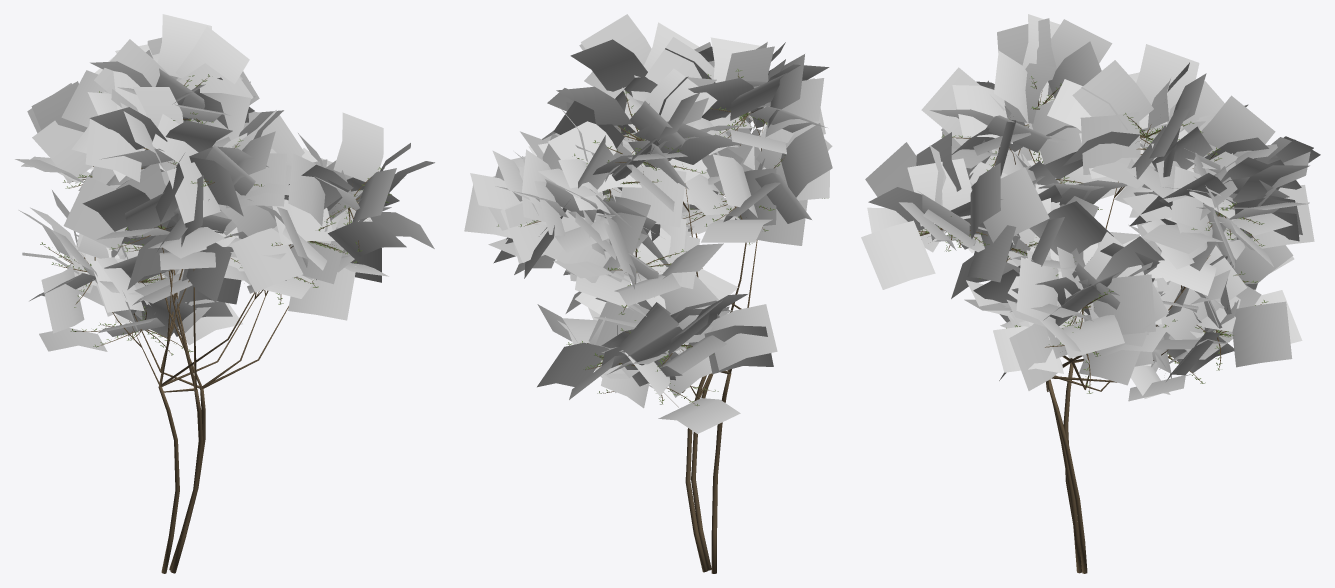
File: Bruyere_Ancien_LOD0.fbx
3 renders of one model, left to right at view 1: azimuth 30°, elevation 25°; view 2: azimuth 150°, elevation 25°; view 3: azimuth 270°, elevation 25°, orthographic. The views are drawn at different scales.
Visible parts, largest first — view 1: Bruyere_Ancien; view 2: Bruyere_Ancien; view 3: Bruyere_Ancien.
Boxes of the visible parts, box(x1,y1,x2,y2) form: Bruyere_Ancien: box(15, 14, 434, 573); Bruyere_Ancien: box(464, 14, 832, 573); Bruyere_Ancien: box(861, 14, 1320, 573).
Bounding box in the file's own units: 257 × 386 × 307.
